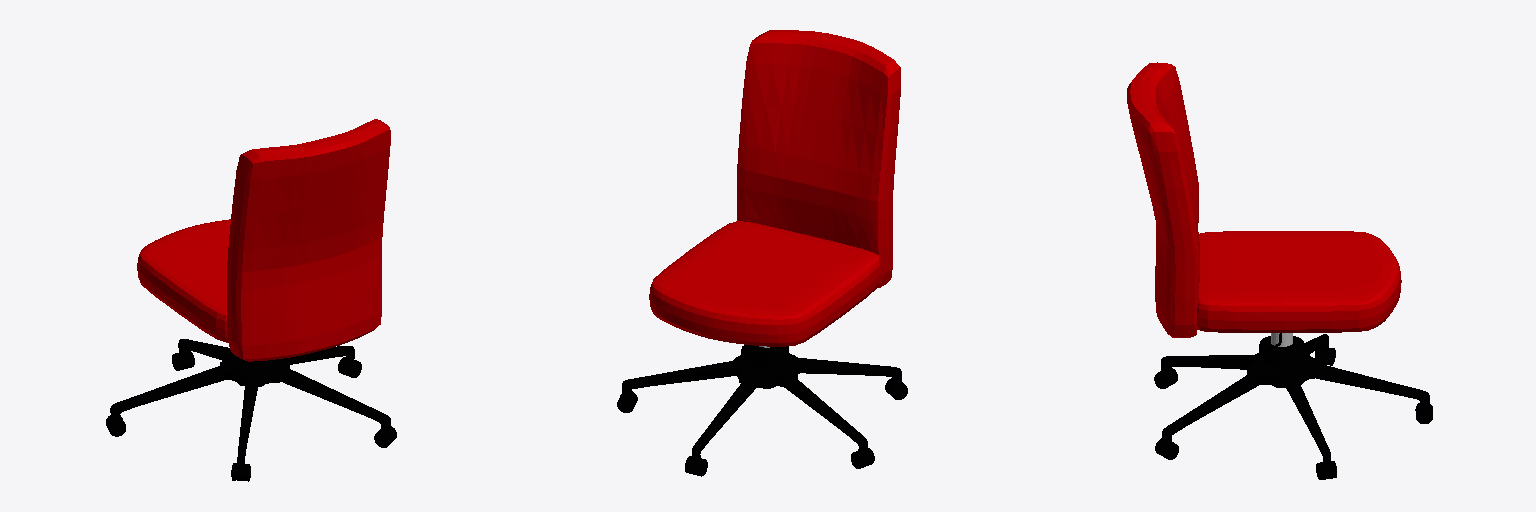
Rendered from chair.obj.
3 renders of one model, left to right at view 1: azimuth 30°, elevation 25°; view 2: azimuth 150°, elevation 25°; view 3: azimuth 270°, elevation 25°, orthographic.
Parts seen in each view (by area): view 1: Cube.069_Cube.093, Cylinder.002_Cylinder.003, Chair_Cube.094; view 2: Cube.069_Cube.093, Chair_Cube.094, Cylinder.002_Cylinder.003; view 3: Chair_Cube.094, Cube.069_Cube.093, Cylinder.002_Cylinder.003.
Boxes of the visible parts, x1,y1,x2,y2 form: Cube.069_Cube.093: [227, 119, 390, 361]; Cylinder.002_Cylinder.003: [106, 339, 396, 481]; Chair_Cube.094: [137, 219, 230, 342]; Cube.069_Cube.093: [737, 30, 900, 287]; Chair_Cube.094: [649, 221, 881, 346]; Cylinder.002_Cylinder.003: [617, 345, 907, 476]; Chair_Cube.094: [1197, 231, 1401, 332]; Cube.069_Cube.093: [1127, 62, 1199, 337]; Cylinder.002_Cylinder.003: [1154, 333, 1432, 479].
Size of the model in its own units: 0.7631 by 0.9499 by 0.7988.